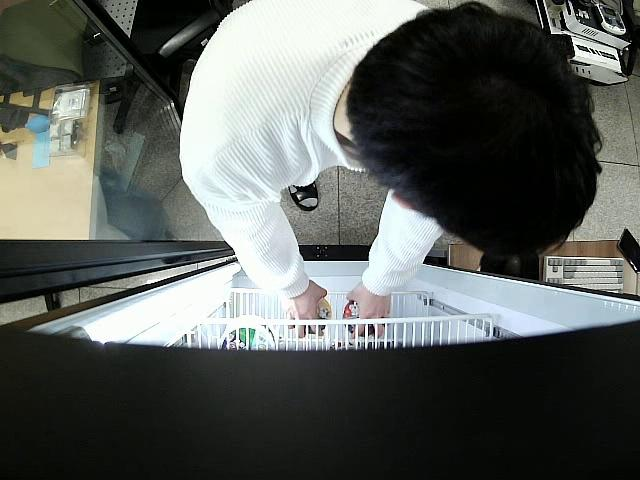00_hand: (281, 276, 327, 340), (346, 285, 391, 339)
08_buldak_S: (343, 301, 374, 336), (306, 299, 331, 335)
